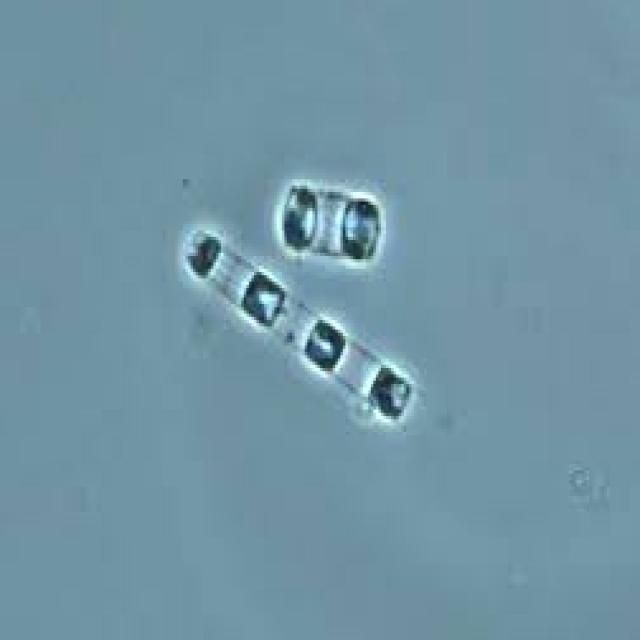Skeletonema: (163, 215, 427, 447), (280, 174, 389, 274)
